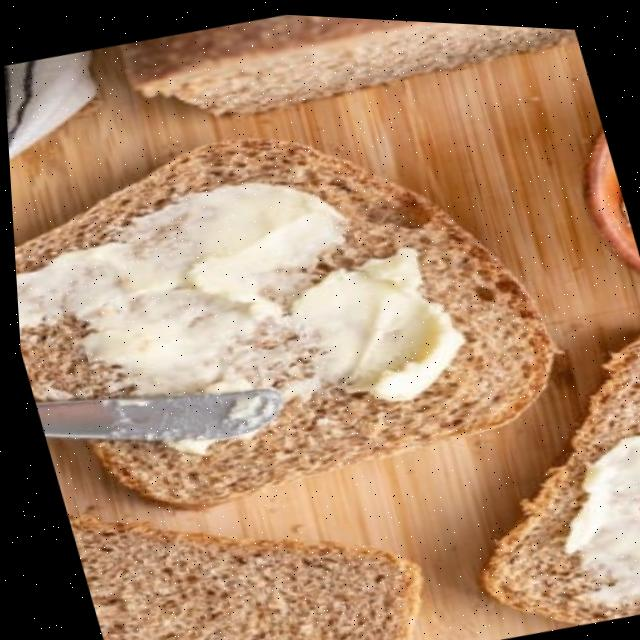Bagel: (12, 137, 547, 506), (474, 325, 640, 619), (67, 515, 412, 640), (16, 317, 127, 400)
